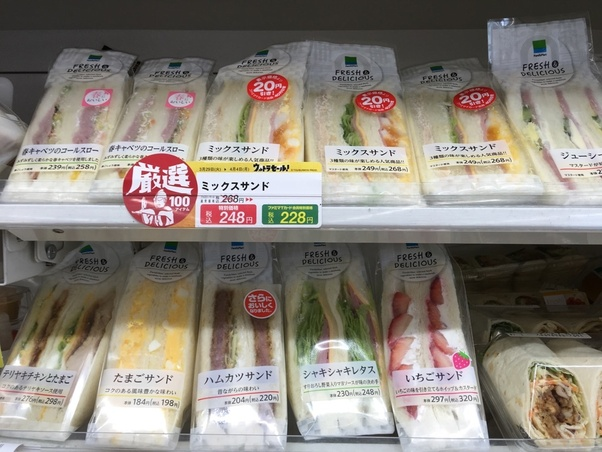sandwich: (369, 246, 508, 452), (389, 55, 533, 225), (280, 250, 401, 452), (479, 21, 602, 209), (294, 39, 423, 211), (1, 252, 113, 444), (10, 38, 131, 209), (192, 254, 290, 452), (200, 40, 308, 202), (109, 251, 196, 450), (104, 48, 202, 220)
